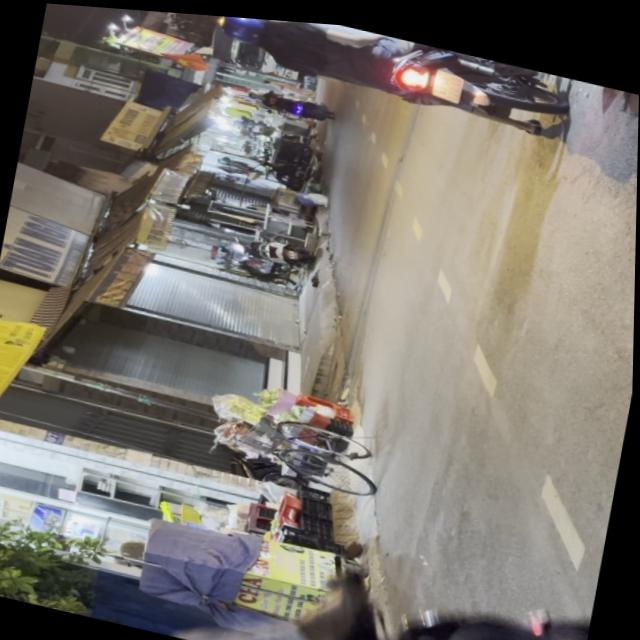helmet: (219, 13, 272, 47)
licenseplate: (3, 484, 596, 640), (209, 12, 574, 139)
nohelmet: (430, 63, 462, 96)
